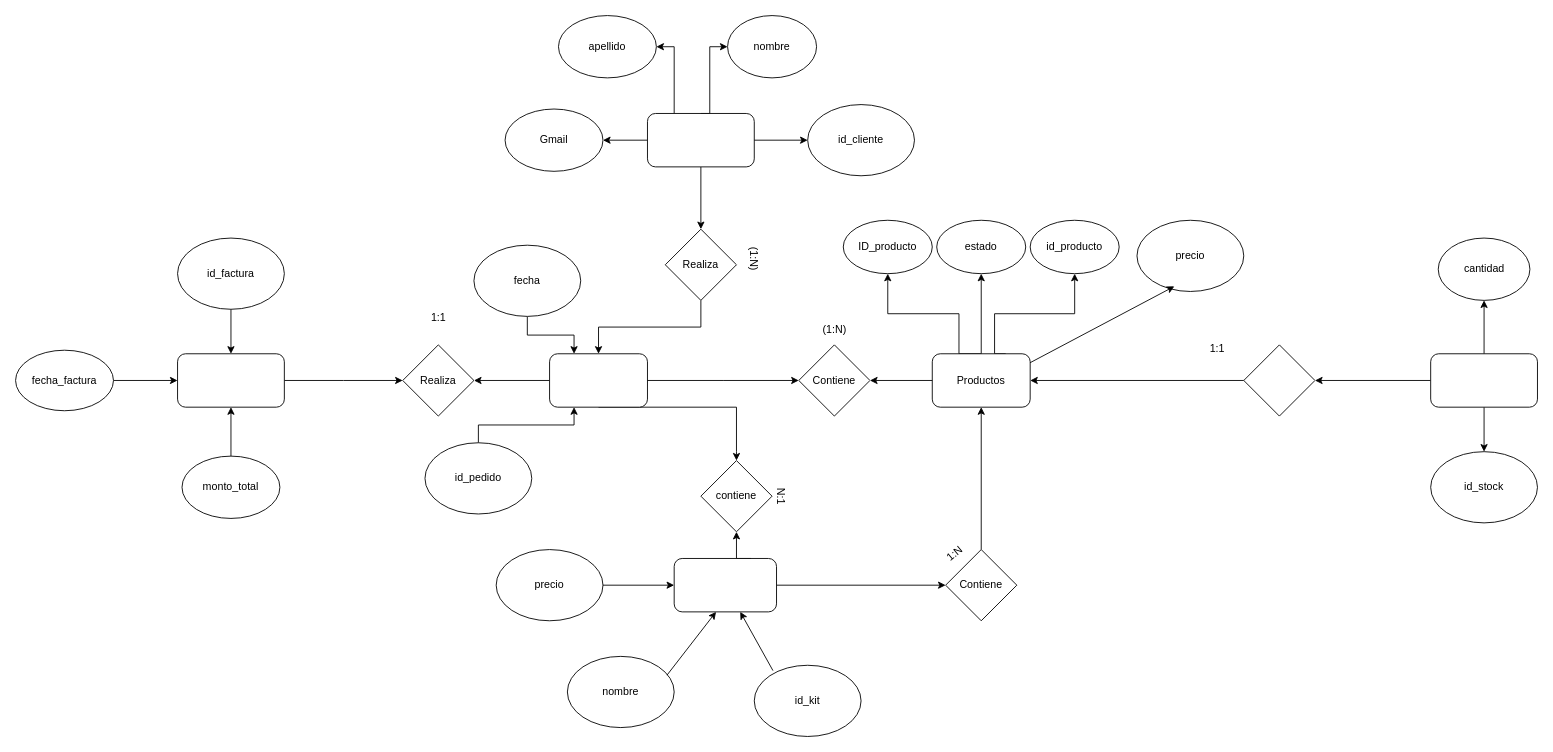
The diagram is 1553 pixels wide and 752 high, and some of its shapes have lost their labels. The centre of each missing label's shape, as x and y in pixels:
"Cliente" goes at point 700,140.
"Facturacion" goes at point 230,380.
"Guarda" goes at point 1279,380.
"Kit" goes at point 725,585.
"Pedido" goes at point 598,380.
"Stock" goes at point 1483,380.
